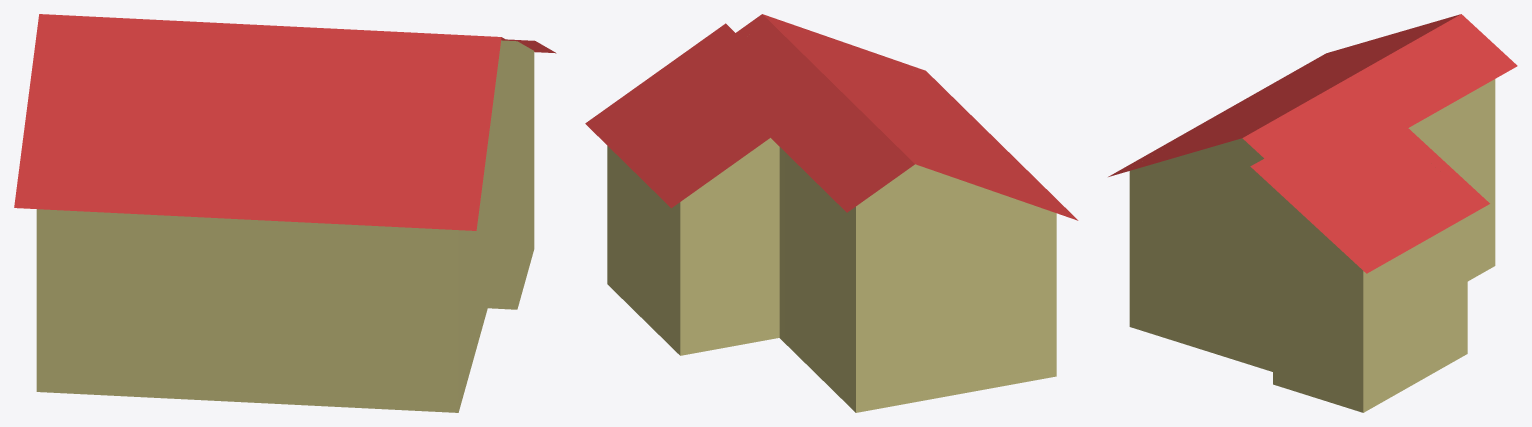
3 views of the same model, side by side, from view 1: azimuth 30°, elevation 25°; view 2: azimuth 150°, elevation 25°; view 3: azimuth 270°, elevation 25° (orthographic). The views are drawn at different scales.
Size of the model in its own units: 24.03 by 19.11 by 11.94.
